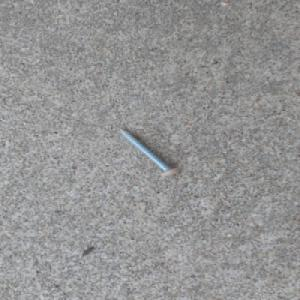Screw: (116, 126, 182, 177)
